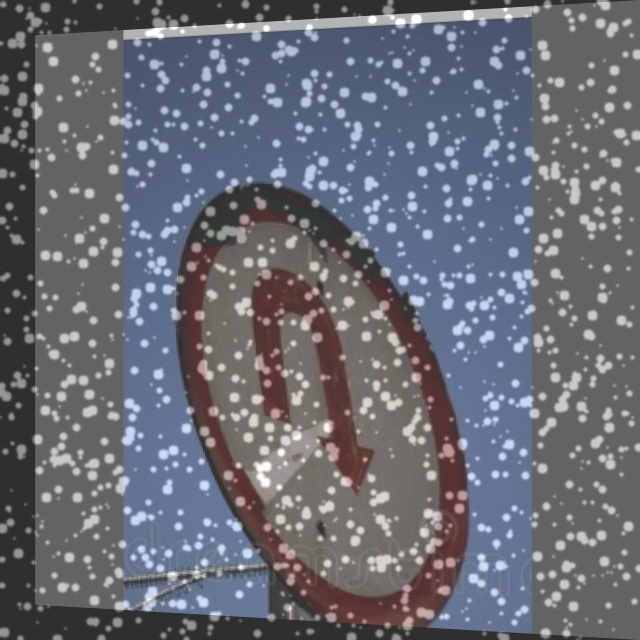U_Turn_Ahead: (182, 172, 476, 587)
